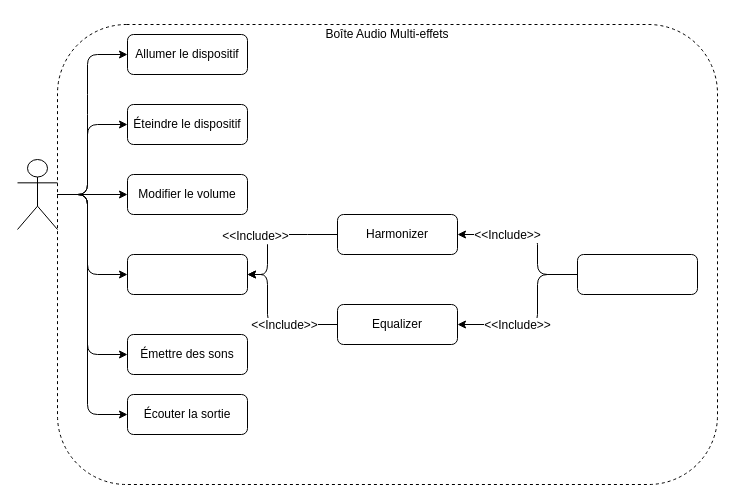
Some shapes in this 735 by 502 pixel diagram are drawn without their labels. Each missing label, with the centre of its shape:
"Actor" goes at (37,194).
"Consulter les effets" goes at (187,274).
"Modifier l'intensité" goes at (637,274).
